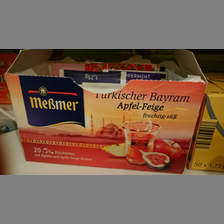tea: (4, 49, 207, 173)
